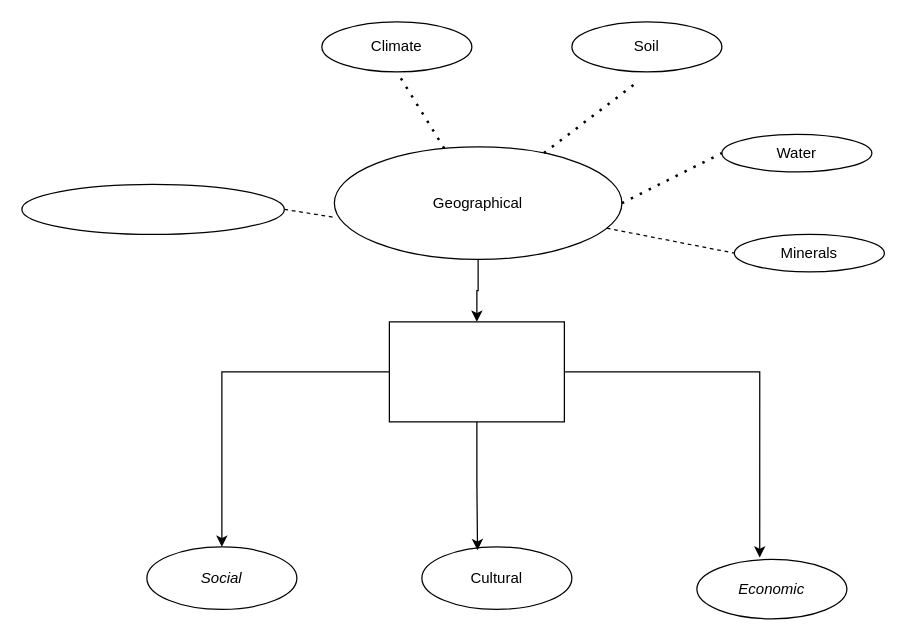
This 906x641 diagram has some shape labels left out. The shapes that lost their labels are listed below. From the top down, each one's box as (x1, y1, x2, y2) in pixels, then its label:
(21, 183, 284, 234): Topography
(388, 321, 564, 422): Factories affecting population distribution
